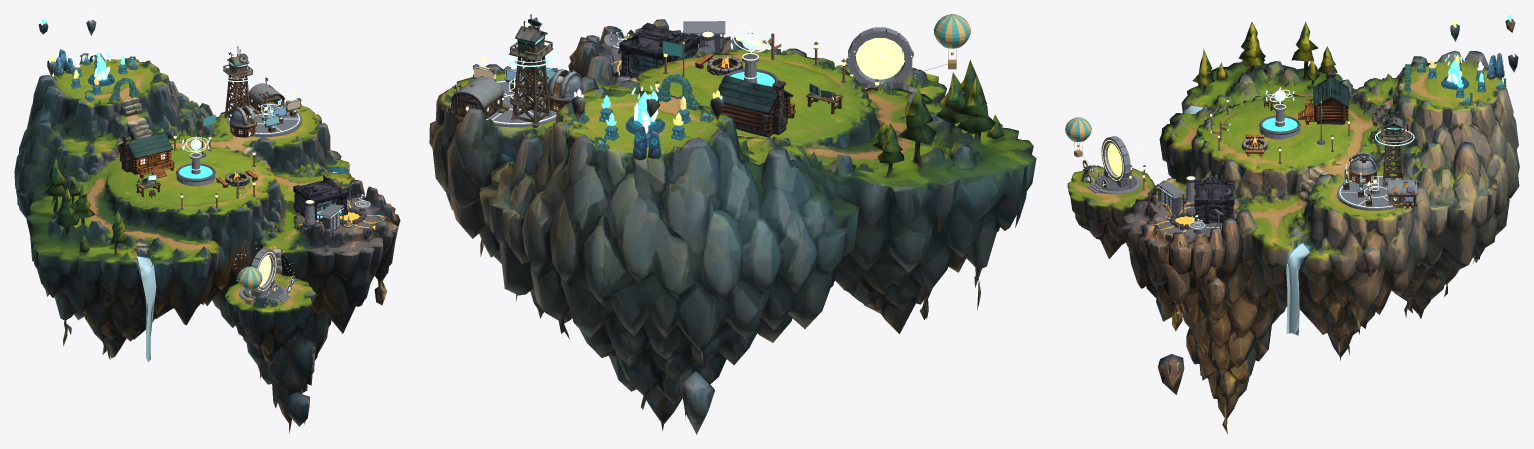
The model's file is island-new.glb.
3 views of the same model, side by side, from view 1: azimuth 30°, elevation 25°; view 2: azimuth 150°, elevation 25°; view 3: azimuth 270°, elevation 25° (orthographic). The views are drawn at different scales.
Visible parts, largest first — view 1: SM_Island_Terrain, SM_BaseCamp_Cabin, SM_Lab_Building, SM_Outpost_Tower, SM_Waterfall_A, SM_Outpost_Plaza, SM_Outpost_Dome, SM_Outpost_Hangar, SM_Landmark_Pedestal, SM_FloatingRock_Under_02, SM_Portal_Ring, SM_Boat (+2 smaller); view 2: SM_Island_Terrain, SM_BaseCamp_Cabin, SM_Outpost_Tower, SM_Lab_Building, SM_Outpost_Hangar, SM_Portal_Ring, SM_Portal_Swirl, SM_FloatingRock_Under_01, SM_Boat, SM_Outpost_Plaza, SM_Outpost_Dome, SM_Crystal_StandingStones (+4 smaller); view 3: SM_Island_Terrain, SM_BaseCamp_Cabin, SM_Lab_Building, SM_Outpost_Tower, SM_Outpost_Plaza, SM_Waterfall_B, SM_Portal_Ring, SM_Outpost_Hangar, SM_FloatingRock_Under_02, SM_Outpost_Dome, SM_Landmark_Pedestal, SM_Portal_Platform (+2 smaller).
Part boxes in pixels (box(x1,y1,x2,y2)): SM_Island_Terrain: box(14, 53, 400, 433); SM_BaseCamp_Cabin: box(118, 132, 174, 178); SM_Lab_Building: box(293, 175, 348, 221); SM_Outpost_Tower: box(223, 46, 252, 118); SM_Waterfall_A: box(137, 256, 156, 361); SM_Outpost_Plaza: box(227, 103, 302, 137); SM_Outpost_Dome: box(229, 105, 257, 137); SM_Outpost_Hangar: box(249, 77, 284, 114); SM_Landmark_Pedestal: box(176, 152, 215, 186); SM_FloatingRock_Under_02: box(285, 392, 309, 426); SM_Portal_Ring: box(251, 248, 276, 296); SM_Boat: box(237, 266, 262, 304); SM_Island_Terrain: box(429, 19, 1036, 430); SM_BaseCamp_Cabin: box(715, 75, 795, 137); SM_Outpost_Tower: box(509, 14, 553, 127); SM_Lab_Building: box(619, 23, 699, 77); SM_Outpost_Hangar: box(448, 76, 509, 119); SM_Portal_Ring: box(848, 27, 912, 89); SM_Portal_Swirl: box(857, 38, 903, 79); SM_FloatingRock_Under_01: box(681, 371, 714, 434); SM_Boat: box(933, 14, 970, 69); SM_Outpost_Plaza: box(486, 80, 556, 127); SM_Outpost_Dome: box(547, 69, 585, 111); SM_Crystal_StandingStones: box(632, 125, 661, 160); SM_Island_Terrain: box(1067, 21, 1519, 434); SM_BaseCamp_Cabin: box(1298, 71, 1349, 124); SM_Lab_Building: box(1194, 176, 1234, 223); SM_Outpost_Tower: box(1381, 108, 1408, 187); SM_Outpost_Plaza: box(1337, 175, 1400, 210); SM_Waterfall_B: box(1286, 243, 1309, 335); SM_Portal_Ring: box(1101, 136, 1130, 187); SM_Outpost_Hangar: box(1387, 178, 1420, 208); SM_FloatingRock_Under_02: box(1158, 354, 1184, 394); SM_Outpost_Dome: box(1348, 152, 1377, 183); SM_Landmark_Pedestal: box(1259, 104, 1300, 139); SM_Portal_Platform: box(1087, 173, 1141, 194).
Size of the model in its own units: 50.72 by 47.65 by 54.19.
60 materials, 19 textured.
